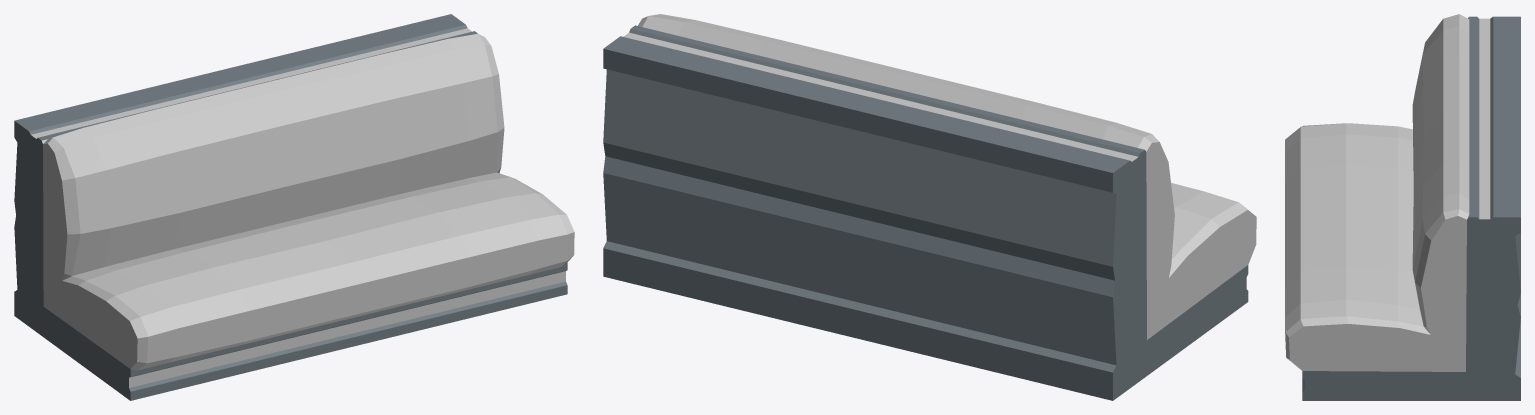
File: SM_Prop_Sofa_02_Straight_01.fbx
3 views of the same model, side by side, from view 1: azimuth 30°, elevation 25°; view 2: azimuth 150°, elevation 25°; view 3: azimuth 270°, elevation 25° (orthographic). The views are drawn at different scales.
Visible parts, largest first — view 1: SM_Prop_Sofa_02_Straight_01; view 2: SM_Prop_Sofa_02_Straight_01; view 3: SM_Prop_Sofa_02_Straight_01.
Boxes of the visible parts, bbox=[...] form: SM_Prop_Sofa_02_Straight_01: bbox=[14, 14, 574, 400]; SM_Prop_Sofa_02_Straight_01: bbox=[603, 14, 1256, 400]; SM_Prop_Sofa_02_Straight_01: bbox=[1285, 14, 1520, 400].
Bounding box in the file's own units: 250 × 111 × 124.
